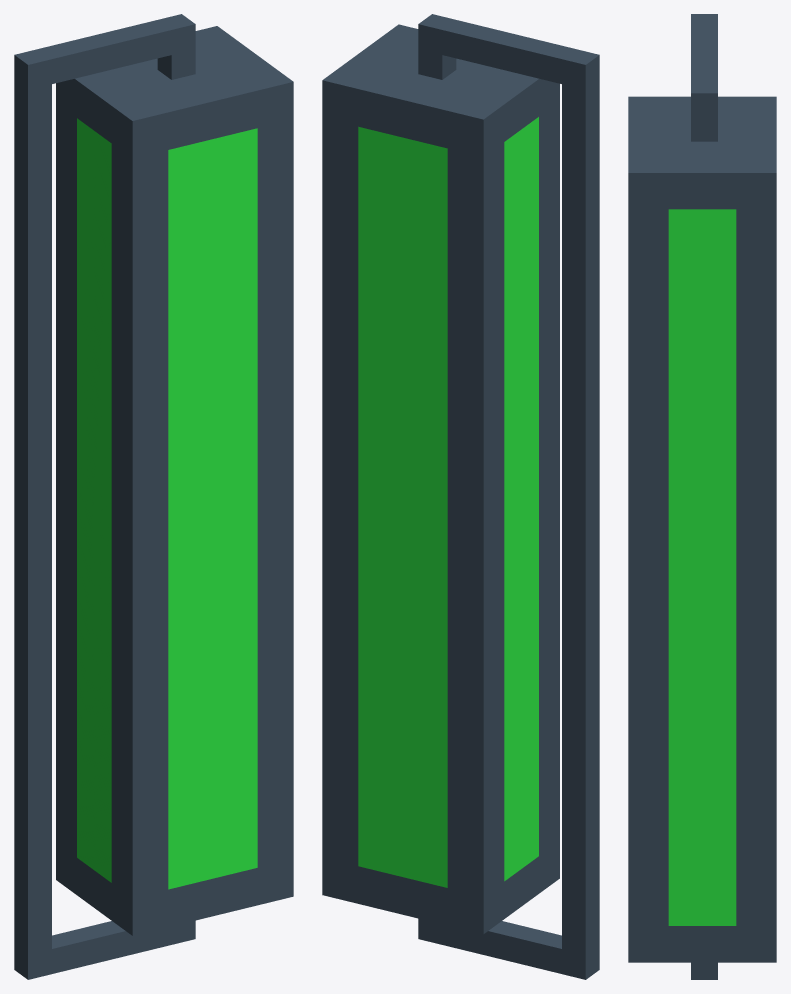
The model's file is Neon_light_1.FBX.
3 views of the same model, side by side, from view 1: azimuth 30°, elevation 25°; view 2: azimuth 150°, elevation 25°; view 3: azimuth 270°, elevation 25° (orthographic). The views are drawn at different scales.
Parts seen in each view (by area): view 1: Neon_light_1; view 2: Neon_light_1; view 3: Neon_light_1.
Part boxes in pixels (x1,y1,x2,y2): Neon_light_1: [14, 14, 293, 979]; Neon_light_1: [322, 14, 599, 979]; Neon_light_1: [628, 14, 776, 979].
Bounding box in the file's own units: 9.79 × 36.71 × 5.55.
Materials: 1 (1 with a texture image).
